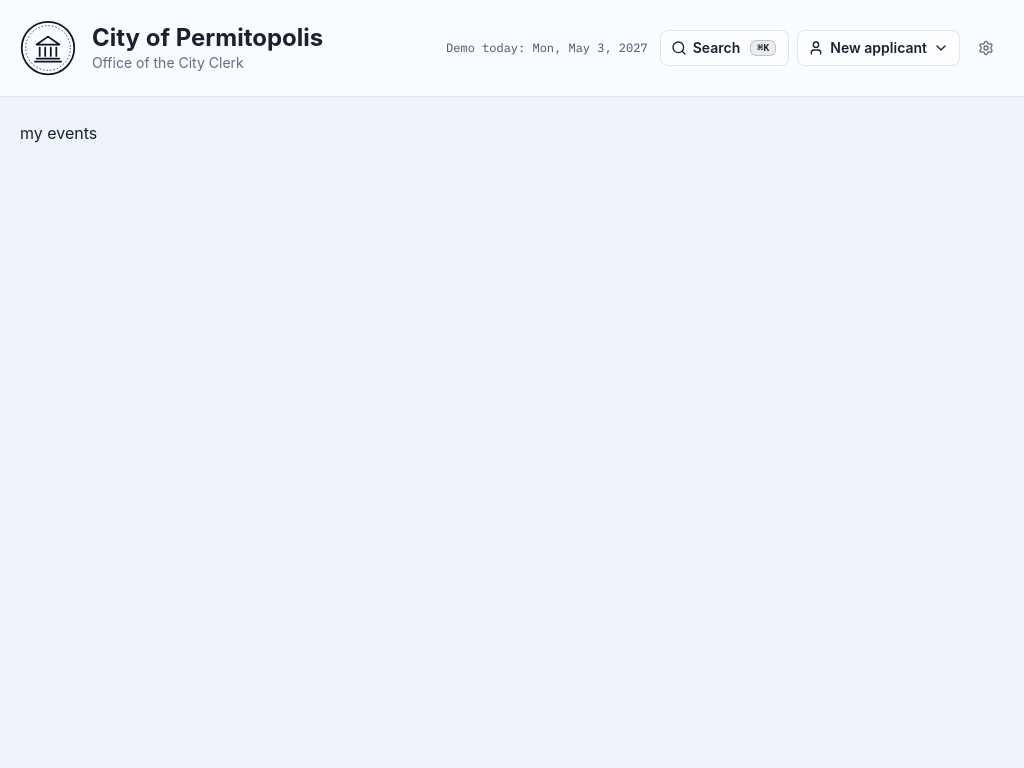
Scenario: command palette › the search button opens it too, and has a kbd hint
The width and height of the screenshot is (1024, 768).
expect the text "⌘K" is shown: met, box left=750, top=40, right=776, bottom=56
Click the button "Search ⌘K" at (725, 48), box left=660, top=30, right=789, bottom=66
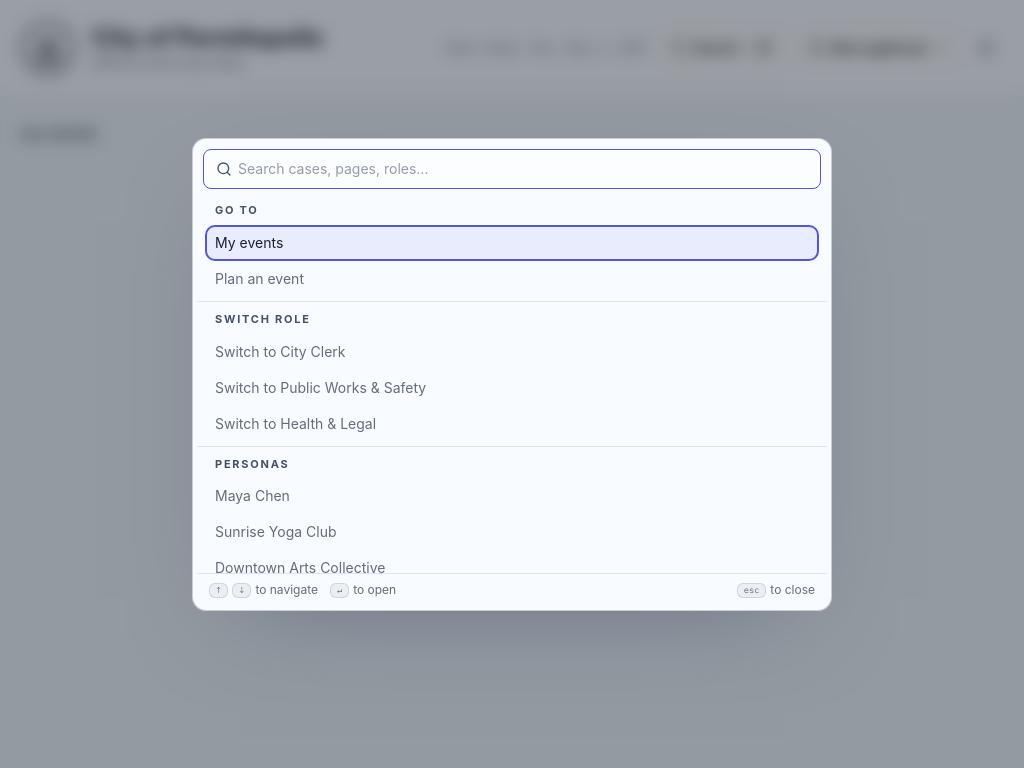
expect the dialog named "Command palette" is shown: met, box left=192, top=138, right=832, bottom=611
